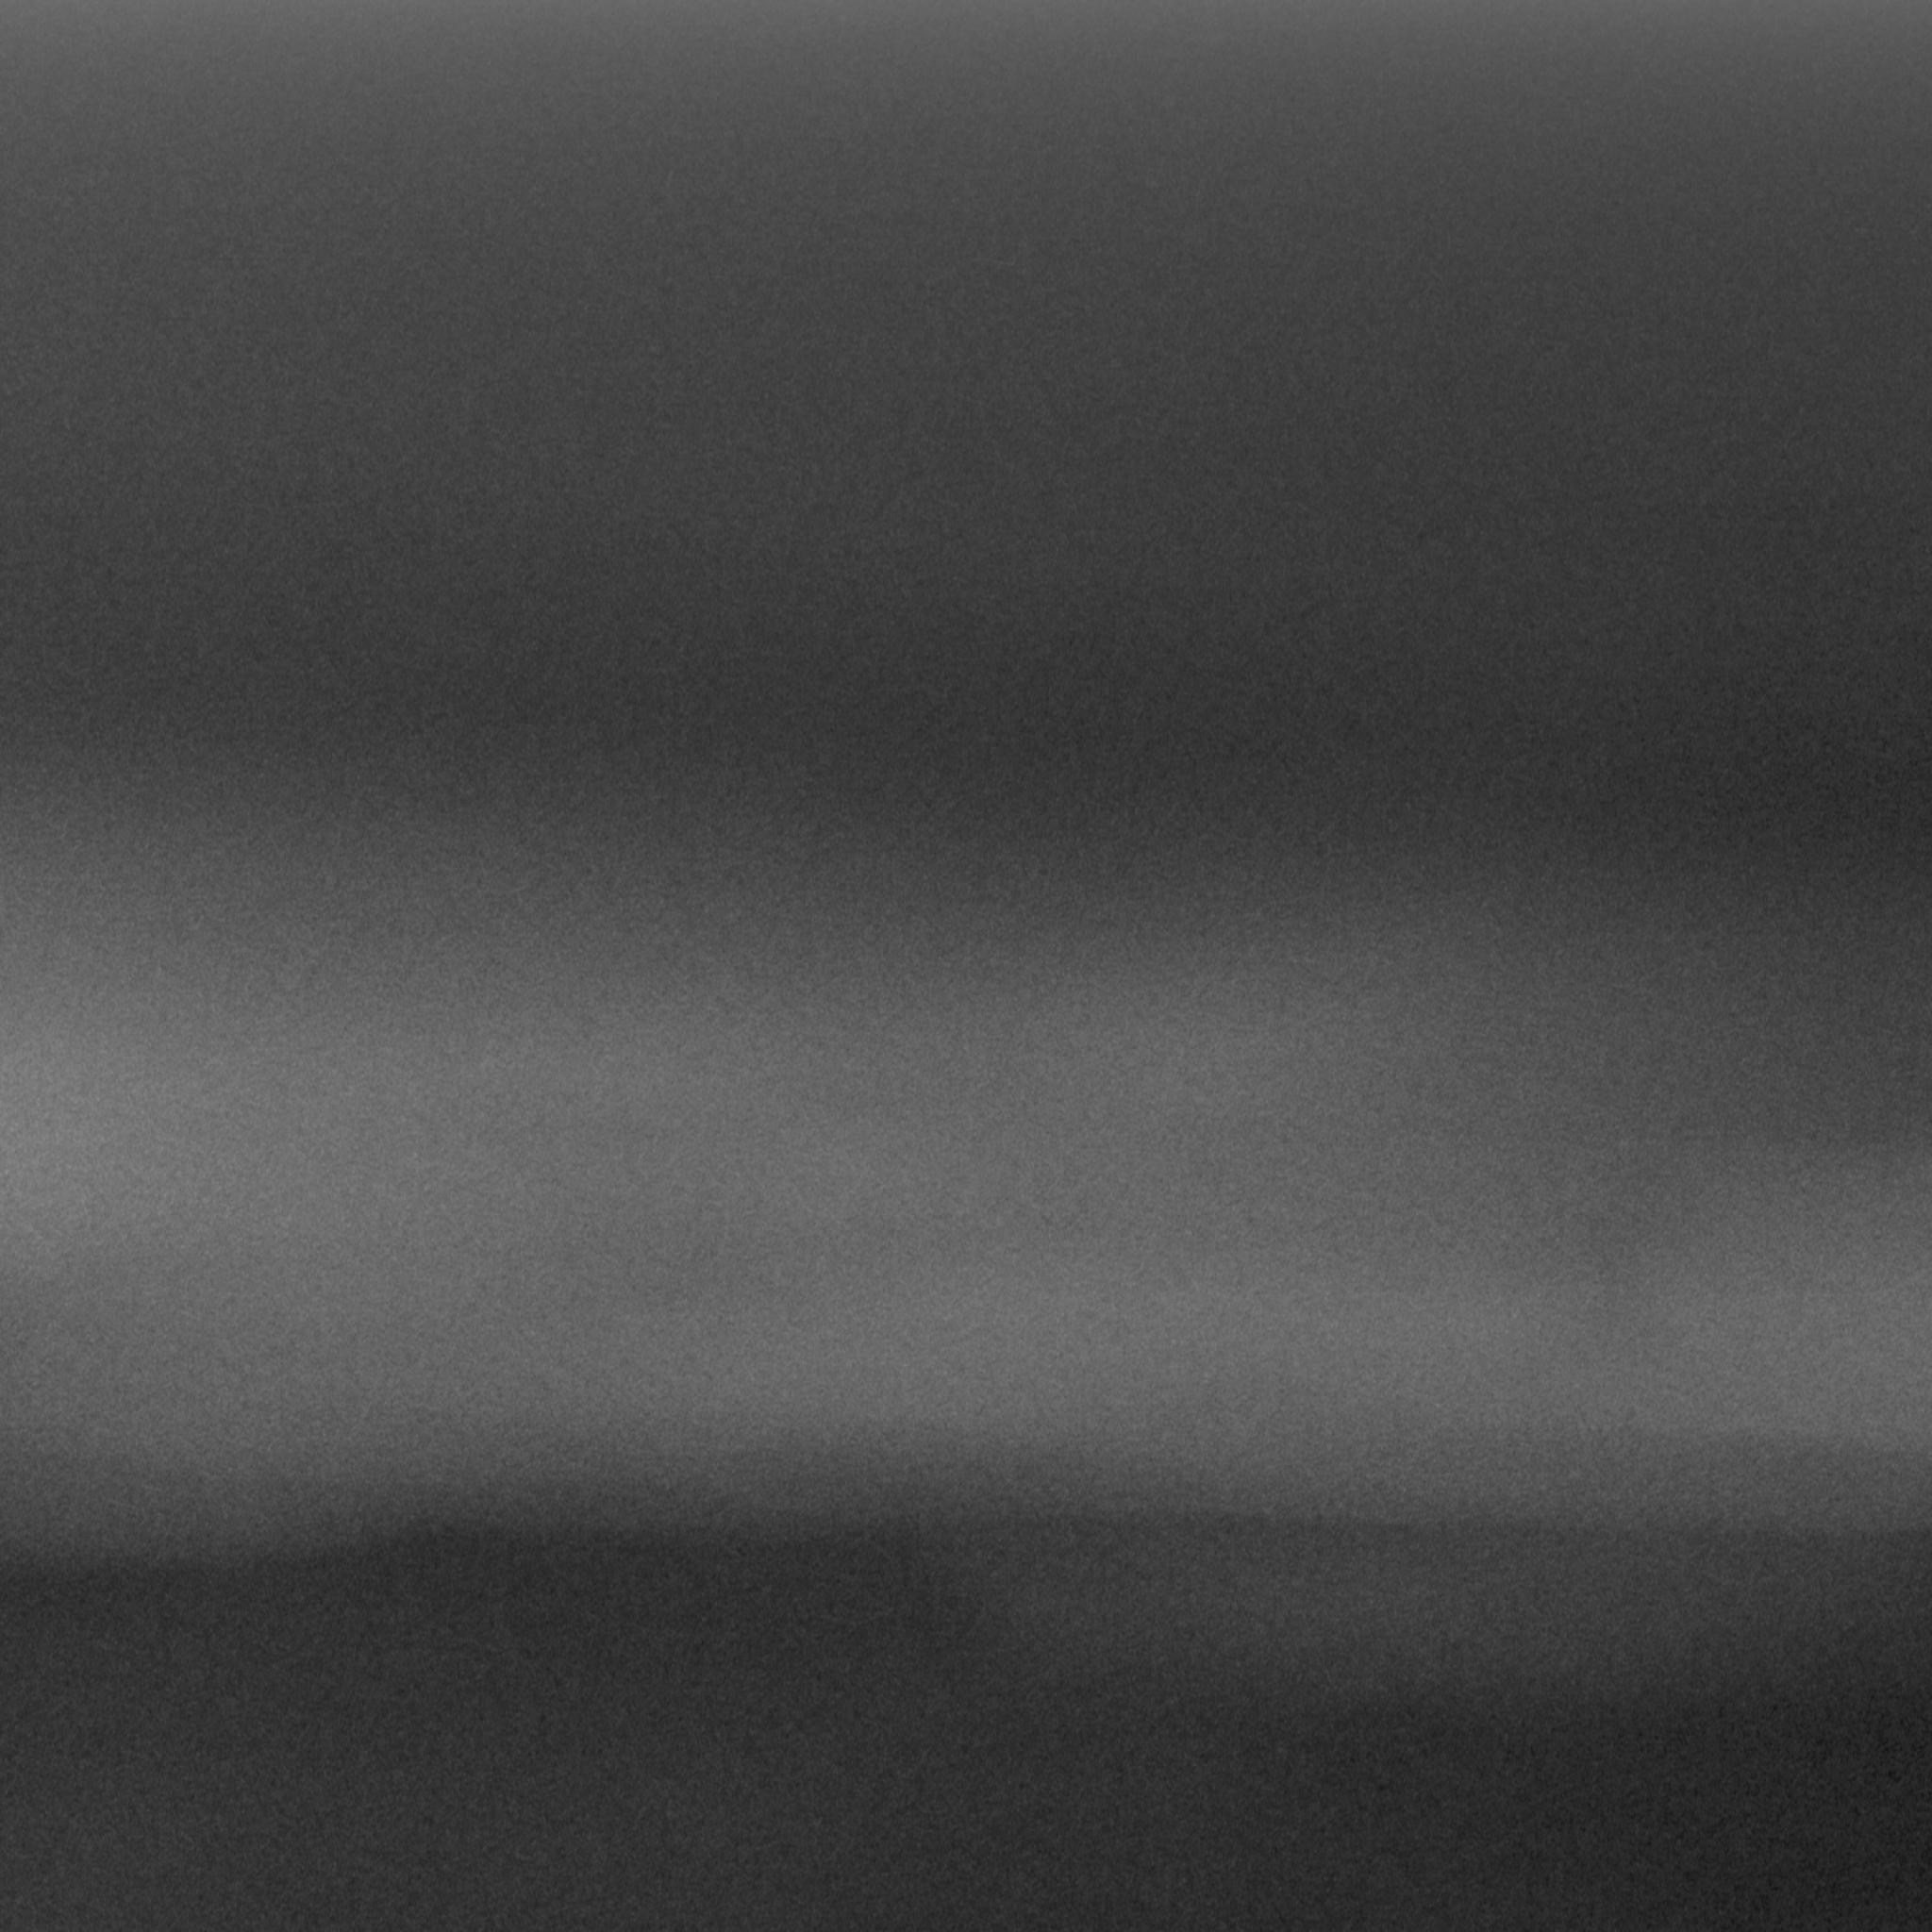Sem defeitos: (0, 608, 1932, 1766)
